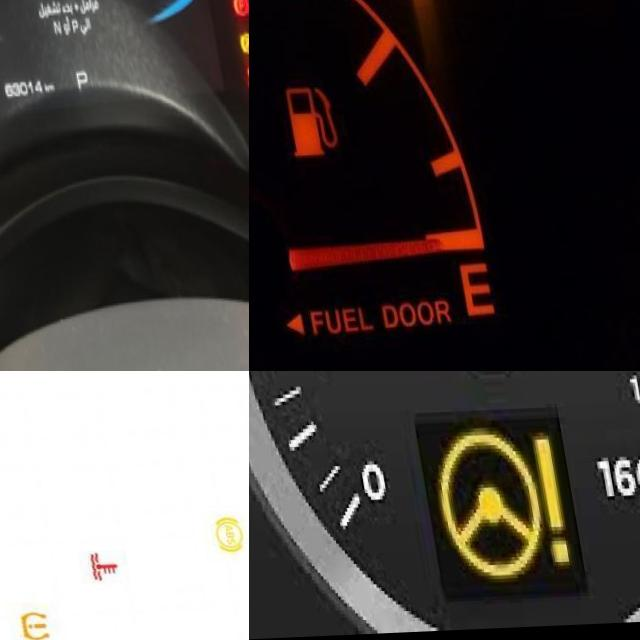Electronic Power Steering: (405, 428, 556, 588)
